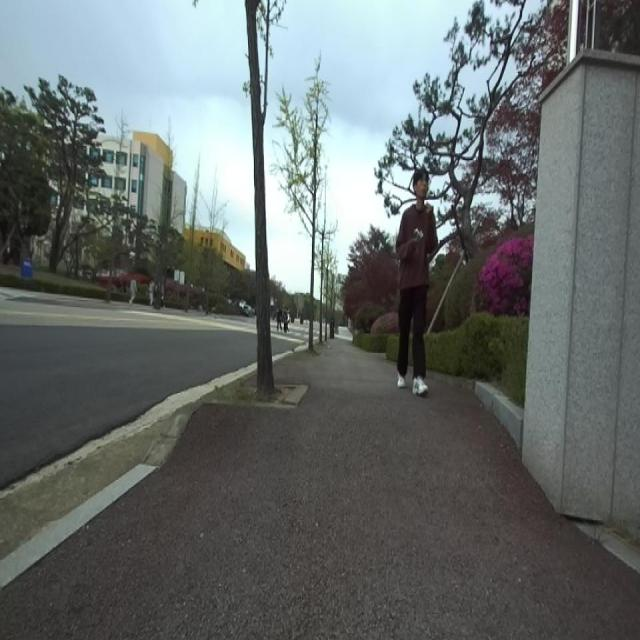sidewalk: (0, 339, 640, 639), (0, 406, 196, 588)
